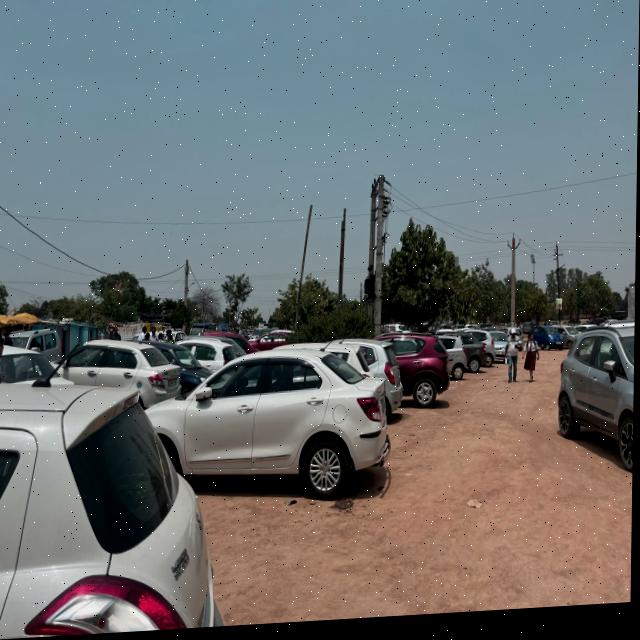car: (0, 355, 226, 640), (159, 349, 397, 509), (558, 311, 636, 500), (68, 328, 181, 412), (371, 322, 454, 425), (335, 333, 405, 427), (0, 345, 77, 389), (5, 320, 67, 363), (182, 337, 234, 380), (438, 332, 471, 395), (220, 328, 258, 362), (534, 329, 562, 364), (251, 334, 291, 357), (474, 332, 495, 375), (556, 329, 579, 358), (492, 334, 510, 371), (576, 331, 599, 339), (524, 326, 534, 342)
